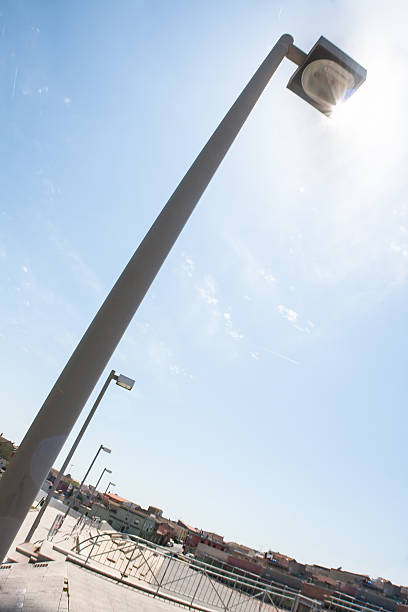light_pole: (0, 40, 289, 602)
